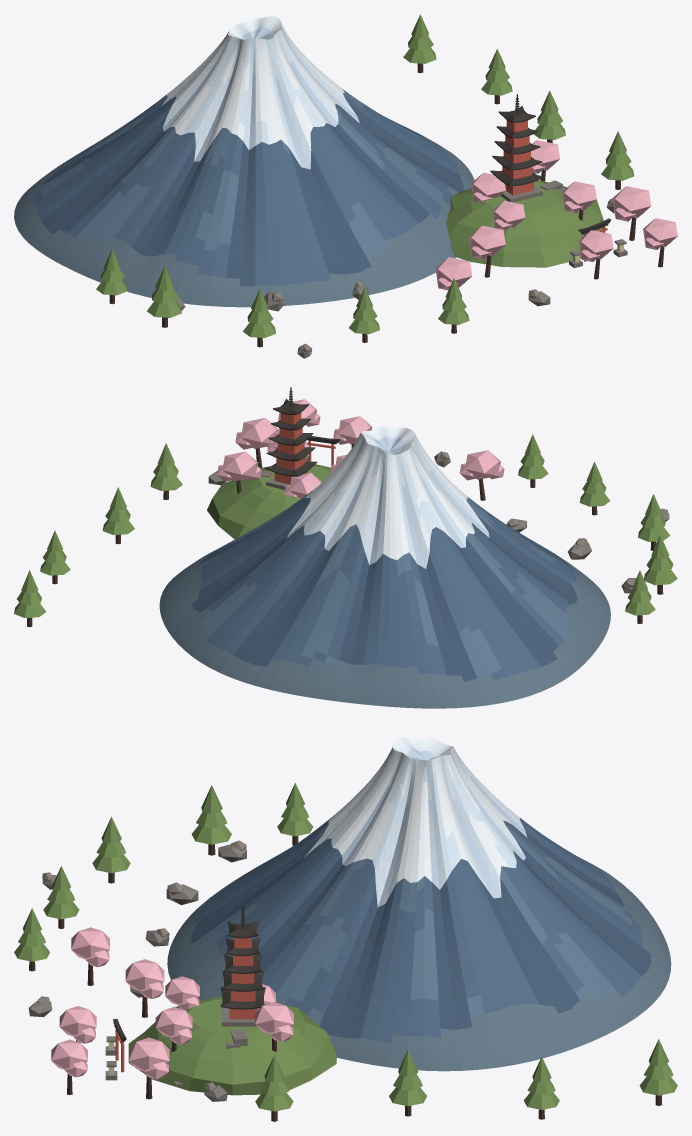
Rendered from mount-fuji.glb.
The picture shows the model from 3 angles, top to bottom: view 1: azimuth 30°, elevation 25°; view 2: azimuth 150°, elevation 25°; view 3: azimuth 270°, elevation 25°; orthographic projection. The views are drawn at different scales.
Visible parts, largest first — view 1: fuji_mountain_slope, fuji_mountain_gully, fuji_mountain_foot, fuji_foliage, fuji_mountain_rib, fuji_mountain_snow_ice, fuji_blossom, fuji_mountain_snow, fuji_hill, fuji_mountain_snow_shade, fuji_roof, fuji_slate (+2 smaller); view 2: fuji_mountain_slope, fuji_mountain_foot, fuji_mountain_gully, fuji_mountain_rib, fuji_foliage, fuji_mountain_snow_ice, fuji_mountain_snow, fuji_blossom, fuji_hill, fuji_mountain_snow_shade, fuji_roof, fuji_vermilion (+2 smaller); view 3: fuji_mountain_slope, fuji_mountain_gully, fuji_mountain_foot, fuji_foliage, fuji_mountain_rib, fuji_mountain_snow_ice, fuji_mountain_snow, fuji_blossom, fuji_hill, fuji_mountain_snow_shade, fuji_slate, fuji_roof (+3 smaller).
Boxes of the visible parts, bbox=[...] form: fuji_mountain_slope: bbox=[34, 94, 460, 285]; fuji_mountain_gully: bbox=[41, 101, 463, 286]; fuji_mountain_foot: bbox=[14, 131, 474, 307]; fuji_foliage: bbox=[96, 14, 634, 337]; fuji_mountain_rib: bbox=[41, 89, 458, 259]; fuji_mountain_snow_ice: bbox=[161, 18, 356, 168]; fuji_blossom: bbox=[435, 140, 677, 290]; fuji_mountain_snow: bbox=[163, 16, 345, 149]; fuji_hill: bbox=[446, 180, 603, 267]; fuji_mountain_snow_shade: bbox=[162, 27, 359, 169]; fuji_roof: bbox=[490, 94, 610, 234]; fuji_slate: bbox=[176, 180, 627, 358]; fuji_mountain_slope: bbox=[200, 491, 580, 680]; fuji_mountain_foot: bbox=[159, 554, 610, 708]; fuji_mountain_gully: bbox=[191, 514, 577, 682]; fuji_mountain_rib: bbox=[200, 491, 571, 678]; fuji_foliage: bbox=[14, 434, 677, 617]; fuji_mountain_snow_ice: bbox=[288, 428, 487, 568]; fuji_mountain_snow: bbox=[298, 426, 475, 560]; fuji_blossom: bbox=[217, 399, 504, 498]; fuji_hill: bbox=[207, 464, 330, 539]; fuji_mountain_snow_shade: bbox=[287, 437, 489, 568]; fuji_roof: bbox=[264, 387, 340, 476]; fuji_vermilion: bbox=[274, 413, 335, 484]; fuji_mountain_slope: bbox=[192, 815, 643, 1043]; fuji_mountain_gully: bbox=[190, 831, 651, 1038]; fuji_mountain_foot: bbox=[167, 865, 671, 1071]; fuji_foliage: bbox=[14, 783, 677, 1111]; fuji_mountain_rib: bbox=[200, 821, 631, 1025]; fuji_mountain_snow_ice: bbox=[306, 739, 525, 906]; fuji_mountain_snow: bbox=[316, 737, 519, 882]; fuji_blossom: bbox=[51, 927, 293, 1079]; fuji_hill: bbox=[128, 996, 336, 1095]; fuji_mountain_snow_shade: bbox=[302, 748, 527, 907]; fuji_slate: bbox=[28, 844, 258, 1101]; fuji_roof: bbox=[113, 906, 265, 1041].
Bounding box in the file's own units: 32.95 × 11.22 × 31.79.
